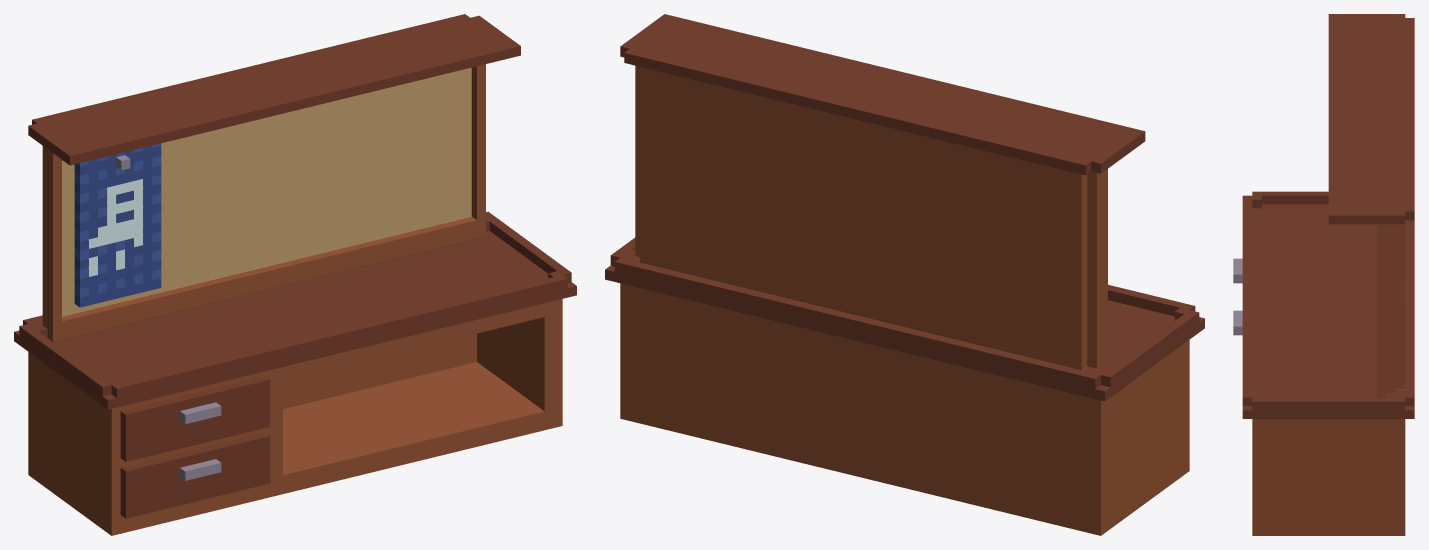
Rendered from IKEA_MesaCrafting.fbx.
The picture shows the model from 3 angles, left to right: view 1: azimuth 30°, elevation 25°; view 2: azimuth 150°, elevation 25°; view 3: azimuth 270°, elevation 25°; orthographic projection. The views are drawn at different scales.
Visible parts, largest first — view 1: IKEA_MesaCrafting; view 2: IKEA_MesaCrafting; view 3: IKEA_MesaCrafting.
Boxes of the visible parts, x1,y1,x2,y2 form: IKEA_MesaCrafting: [14, 14, 576, 535]; IKEA_MesaCrafting: [605, 14, 1204, 535]; IKEA_MesaCrafting: [1233, 14, 1414, 535].
Size of the model in its own units: 520 by 370 by 190.
